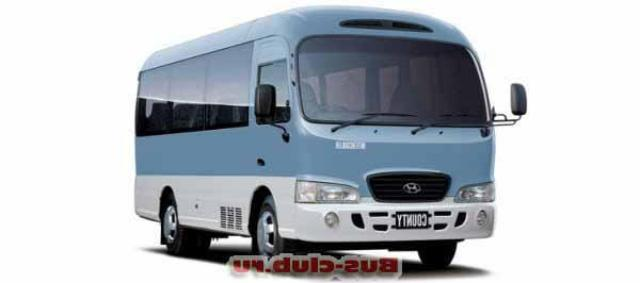bus: (128, 2, 533, 268)
